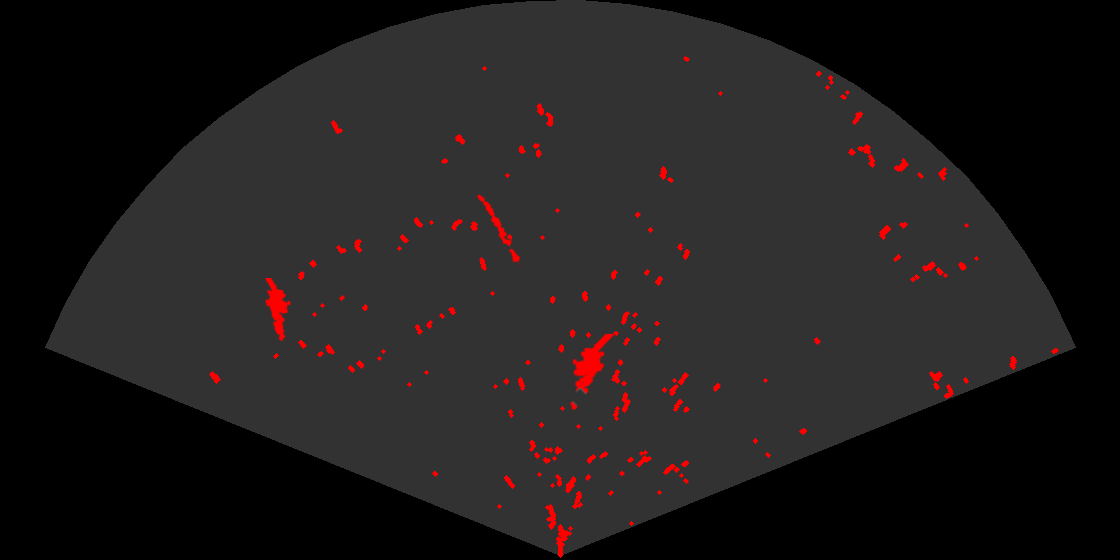chain: (476, 193, 523, 267)
frogman: (568, 334, 617, 412), (263, 278, 292, 343)
